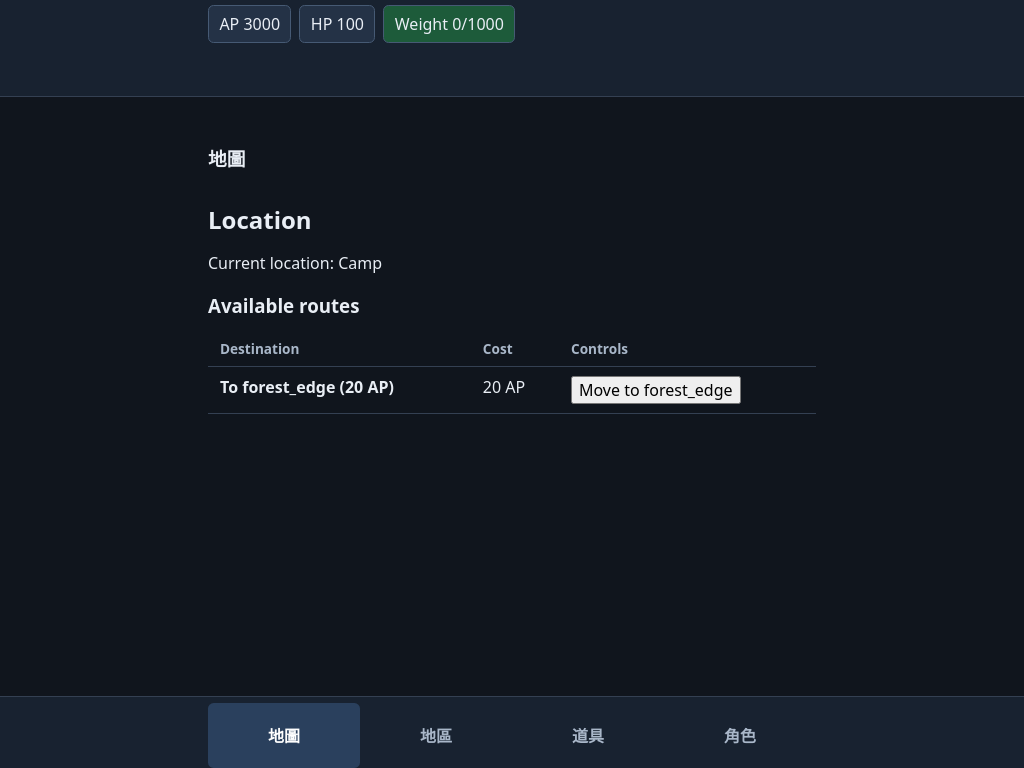
Test: App gameplay tab integration › keeps Rest and shows only the game-owned Player name in Character
Expected: the heading "地圖" is shown, [208,146,245,171]
Click the button "角色".
click(740, 735)  # box [664,703,816,767]
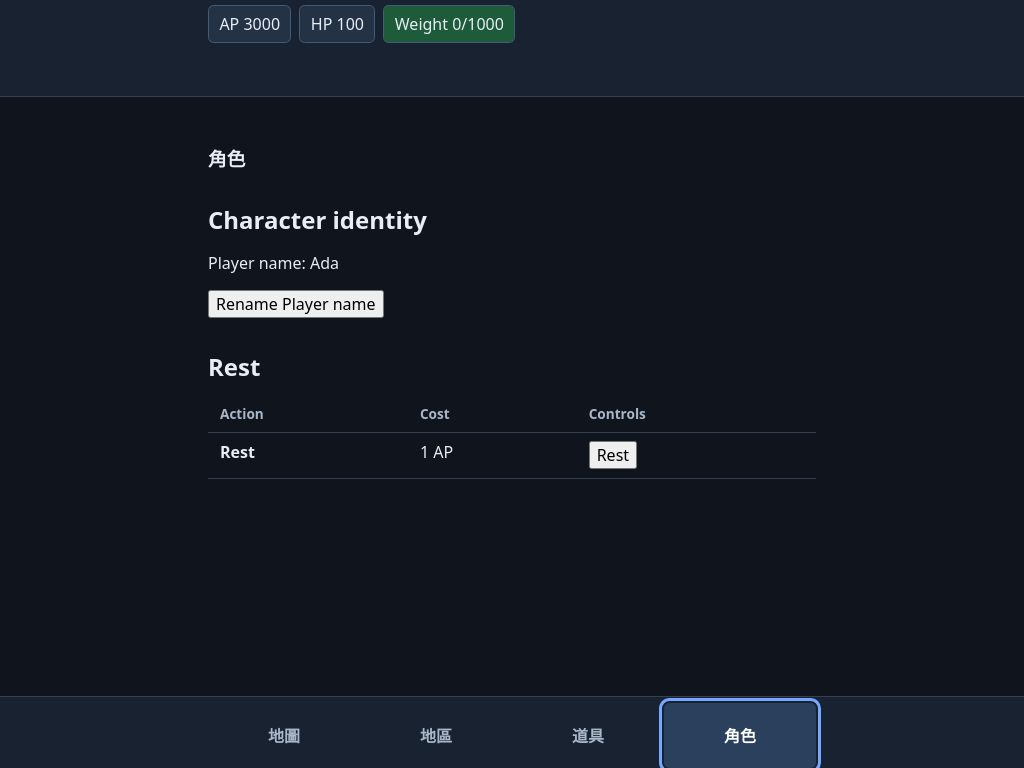
Result: the heading "角色" is shown at [208,146,245,171]
Result: the text "Player name: Ada" is shown at [208,252,339,274]
Result: the button "Rest" is enabled at [589,441,637,469]
